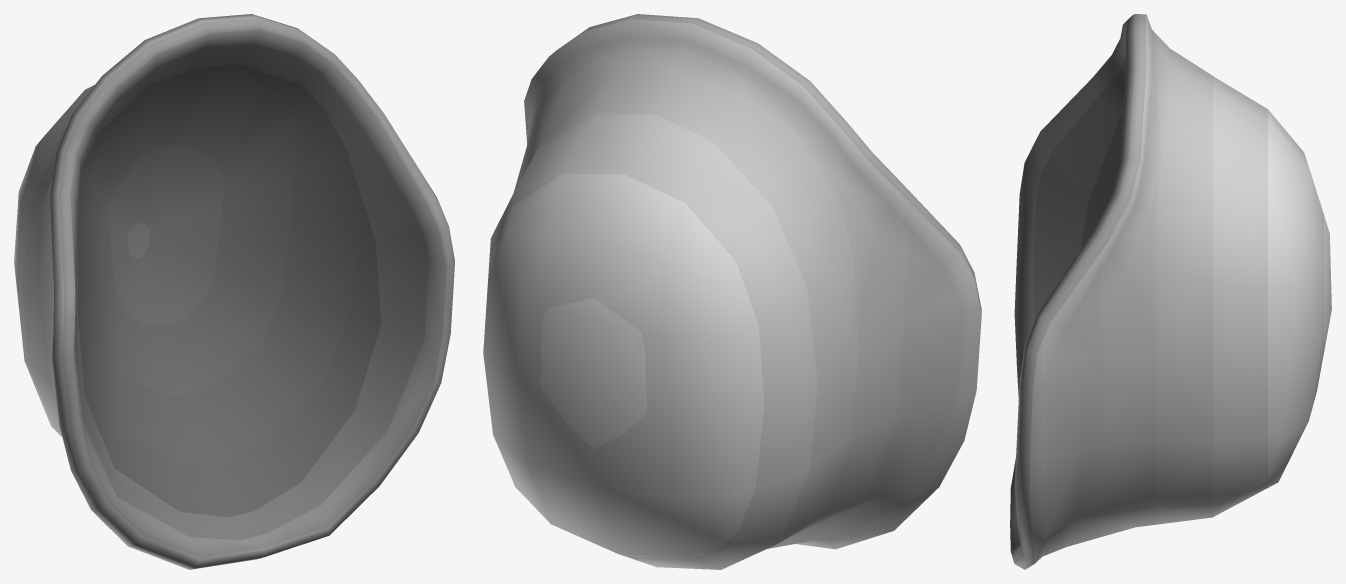
The model's file is loot_helmet.glb.
The picture shows the model from 3 angles, left to right: view 1: azimuth 30°, elevation 25°; view 2: azimuth 150°, elevation 25°; view 3: azimuth 270°, elevation 25°; orthographic projection. The views are drawn at different scales.
Visible parts, largest first — view 1: loot_helmet; view 2: loot_helmet; view 3: loot_helmet.
Part boxes in pixels (left/top/right/bottom): loot_helmet: left=14, top=14, right=454, bottom=569; loot_helmet: left=483, top=14, right=981, bottom=569; loot_helmet: left=1010, top=14, right=1331, bottom=569.
Size of the model in its own units: 0.2792 by 0.3305 by 0.1886.
1 material, 1 textured.
